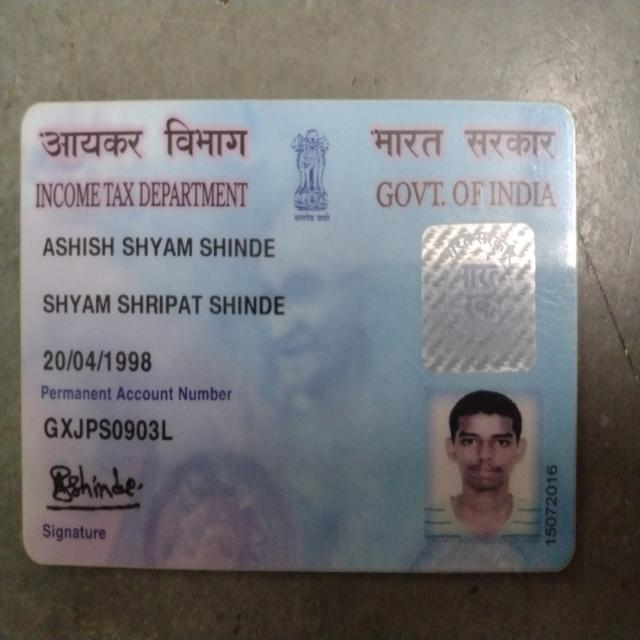pan_card: (25, 104, 571, 571)
